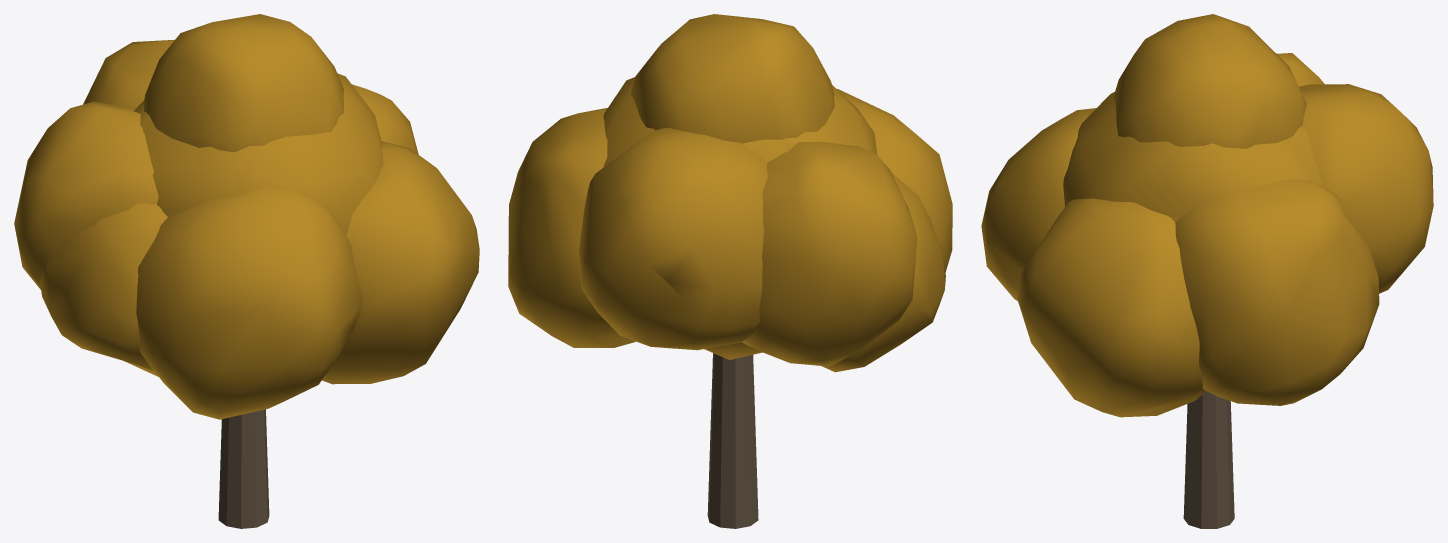
Rendered from autumn.glb.
3 views of the same model, side by side, from view 1: azimuth 30°, elevation 25°; view 2: azimuth 150°, elevation 25°; view 3: azimuth 270°, elevation 25° (orthographic).
Parts seen in each view (by area): view 1: canopy, trunk; view 2: canopy, trunk; view 3: canopy, trunk.
Boxes of the visible parts, x1=… form: canopy: x1=14, y1=14, x2=479, y2=419; trunk: x1=218, y1=409, x2=269, y2=528; canopy: x1=508, y1=14, x2=952, y2=372; trunk: x1=707, y1=353, x2=758, y2=528; canopy: x1=981, y1=14, x2=1433, y2=417; trunk: x1=1183, y1=391, x2=1234, y2=528.
Size of the model in its own units: 7.96 by 9.47 by 7.98.
